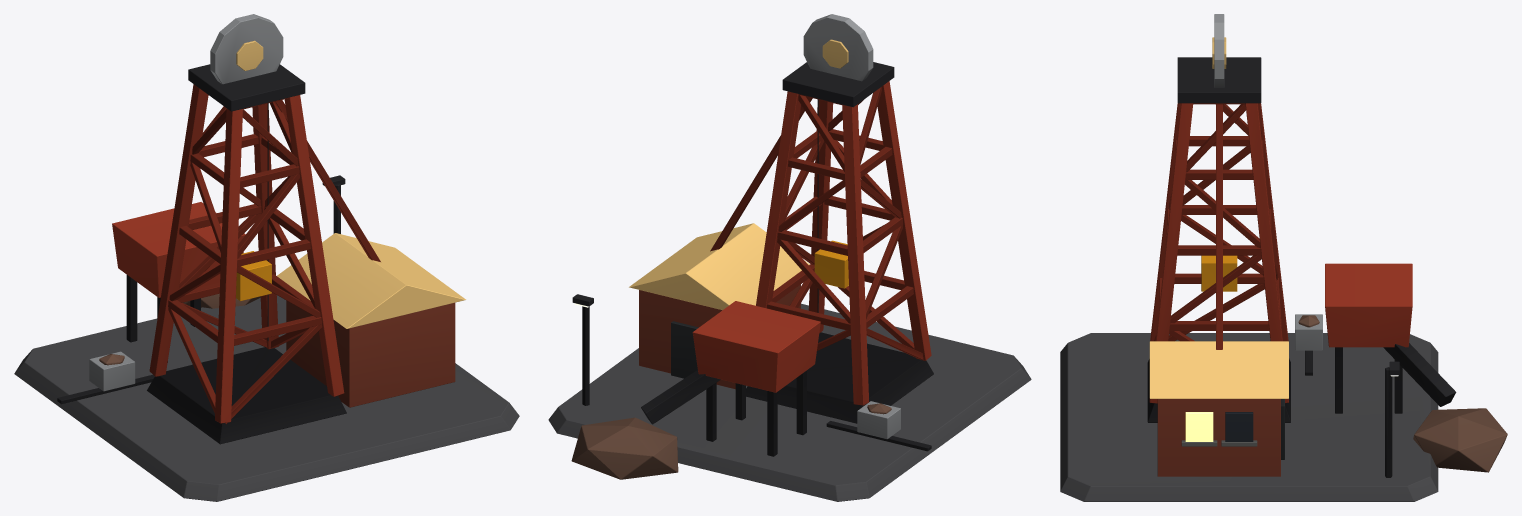
The model's file is mine.glb.
3 views of the same model, side by side, from view 1: azimuth 30°, elevation 25°; view 2: azimuth 150°, elevation 25°; view 3: azimuth 270°, elevation 25° (orthographic). The views are drawn at different scales.
Parts seen in each view (by area): view 1: mine; view 2: mine; view 3: mine.
Boxes of the visible parts, bbox=[...] form: mine: bbox=[14, 14, 519, 501]; mine: bbox=[548, 14, 1031, 501]; mine: bbox=[1060, 14, 1507, 501].
Size of the model in its own units: 1.95 by 2.21 by 2.25.
